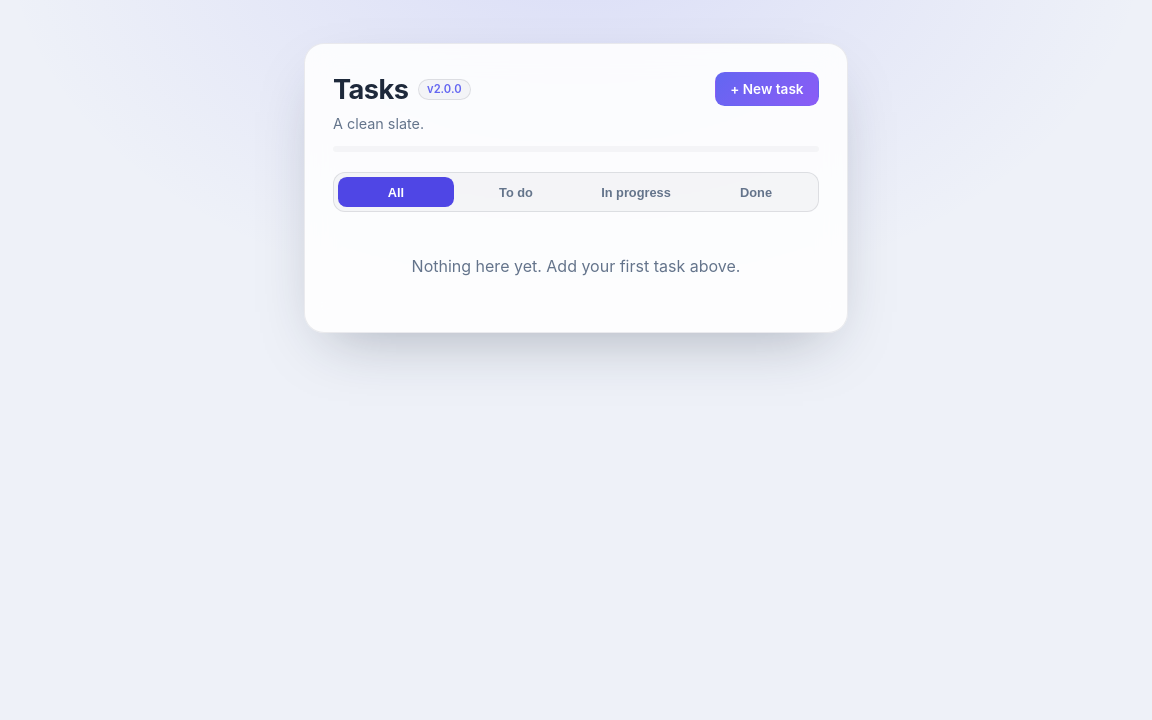
Scenario: App › loading & header › updates the progress summary as tasks complete
Expected: the text "Nothing here yet. Add your first task above." is shown, 412,256 -> 740,276
Step 1. Click the button "+ New task" → {"x": 767, "y": 89}, box 715,72 -> 819,106
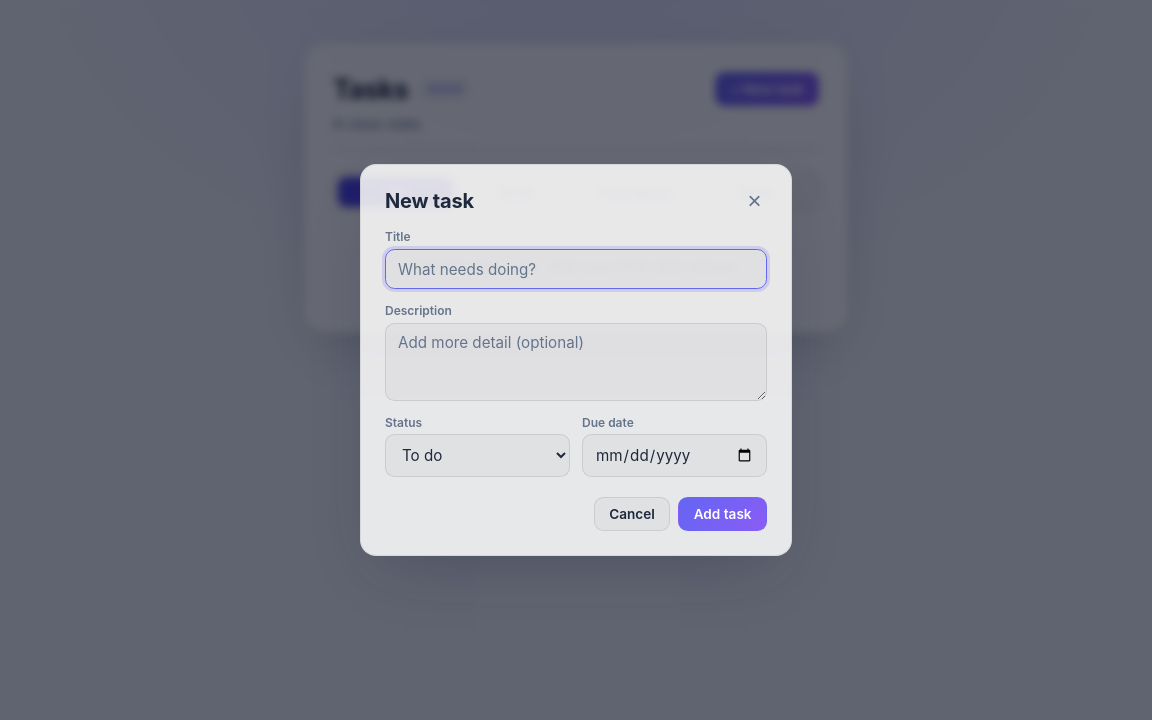
Step 2. Type "One" into the field named "task title" → {"x": 576, "y": 269}, box 385,249 -> 767,289
Step 3. Click the button "Add task" → {"x": 723, "y": 514}, box 678,497 -> 767,531
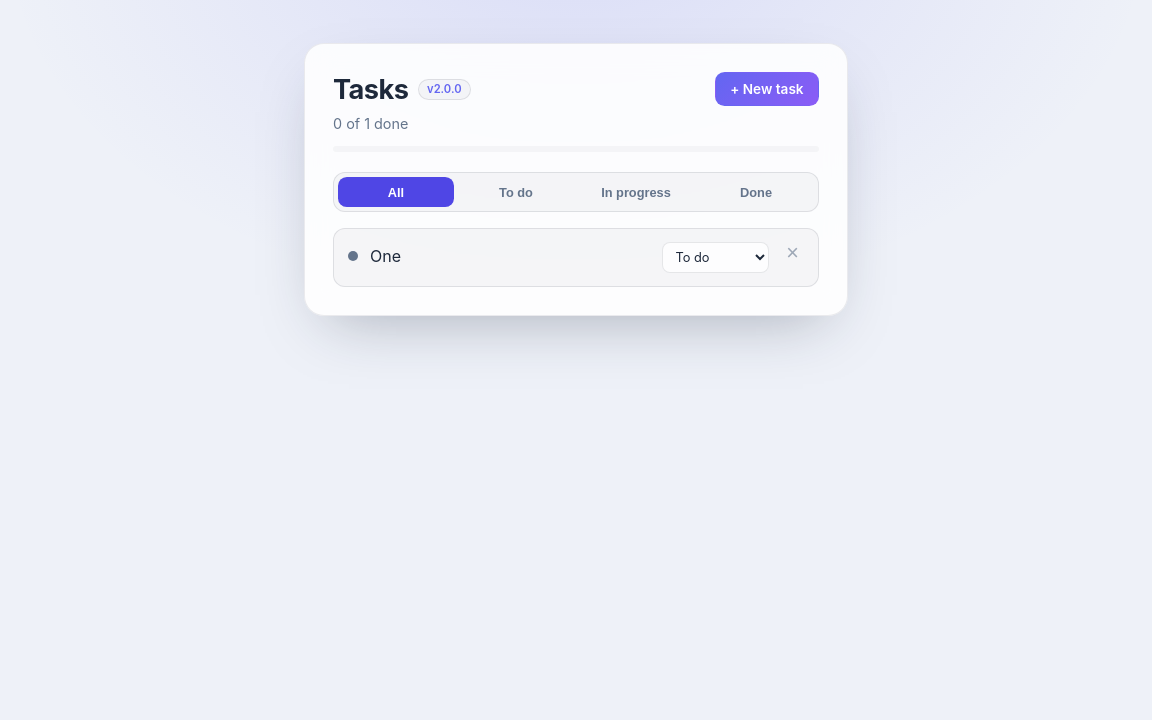
Expected: the text "One" is shown, 370,246 -> 401,267
Step 4. Click the button "+ New task" → {"x": 767, "y": 89}, box 715,72 -> 819,106
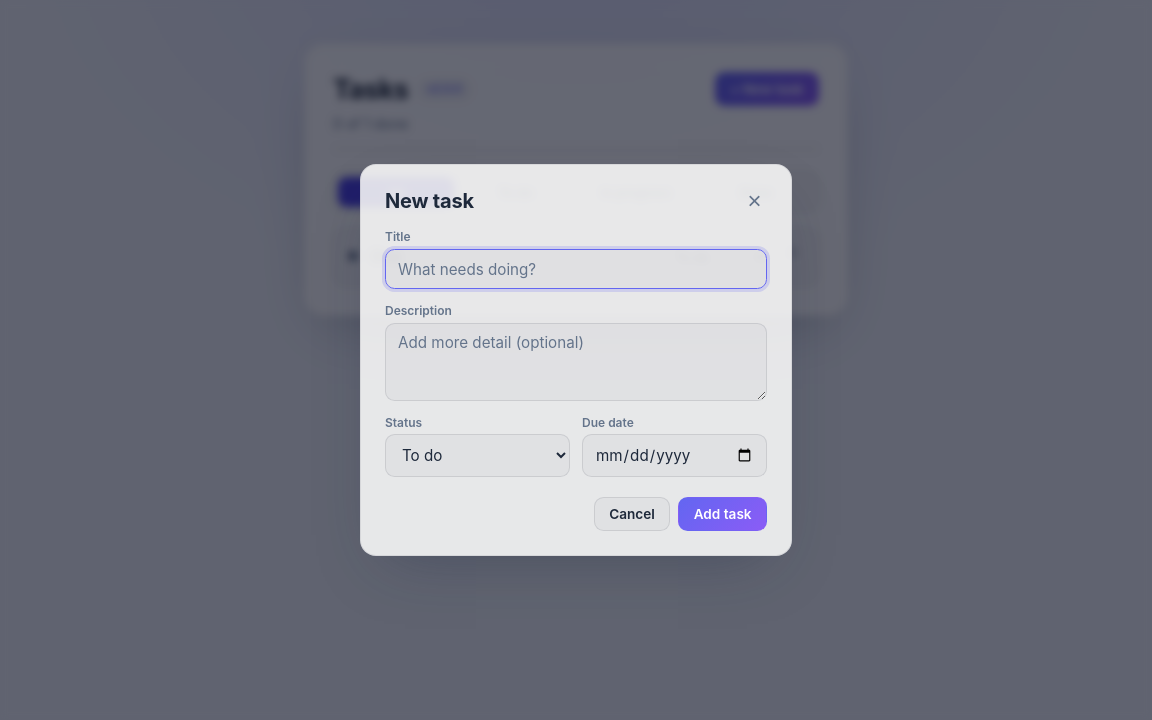
Step 5. Type "Two" into the field named "task title" → {"x": 576, "y": 269}, box 385,249 -> 767,289
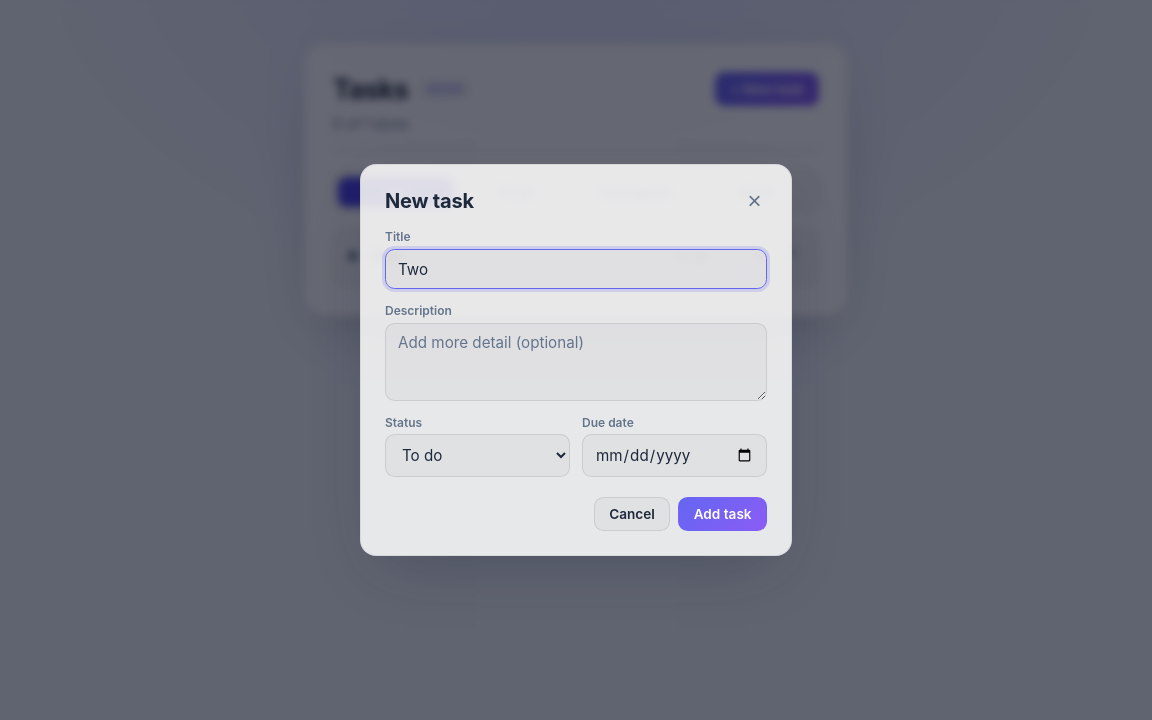
Step 6. Select "Done" in the dropdown labelled "Status" → {"x": 478, "y": 456}, box 385,434 -> 570,477
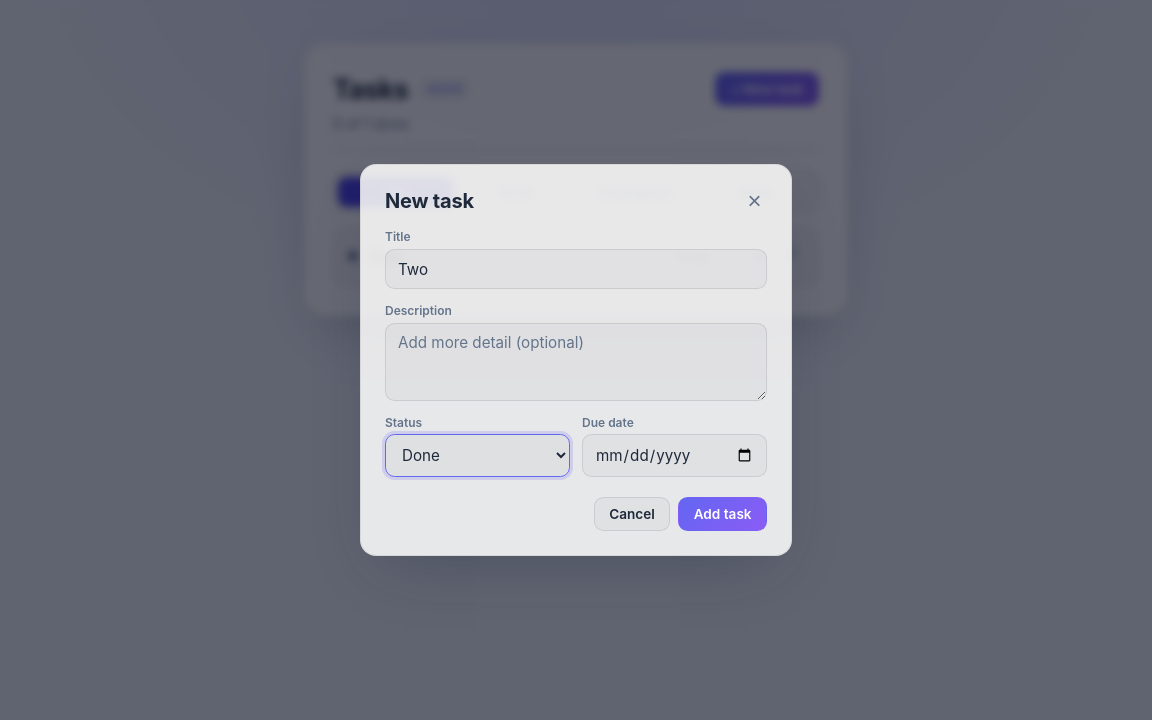
Step 7. Click the button "Add task" → {"x": 723, "y": 514}, box 678,497 -> 767,531
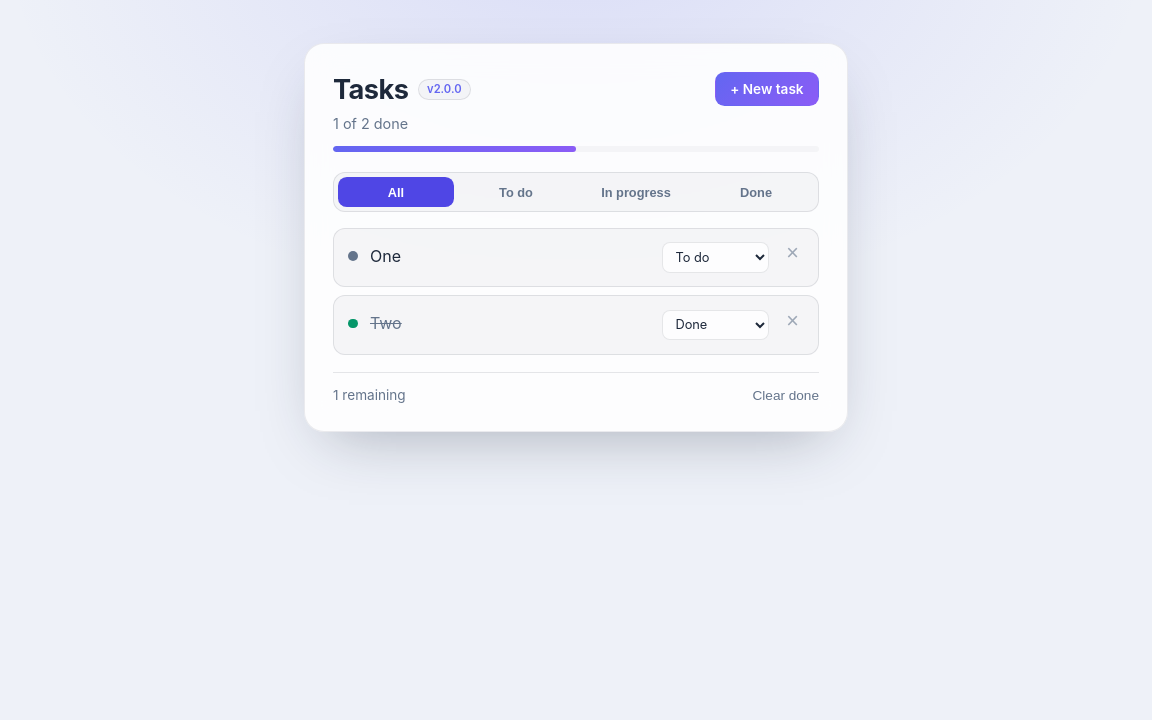
Expected: the text "Two" is shown, 370,313 -> 402,334
Expected: the text "1 of 2 done" is shown, 333,115 -> 408,132
